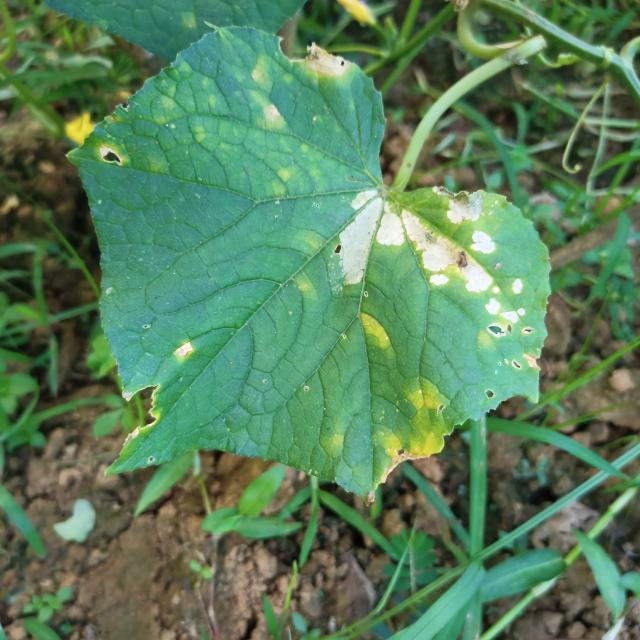disease_cucumber: (338, 183, 530, 331), (370, 376, 450, 466), (240, 58, 289, 137), (355, 310, 397, 354)
